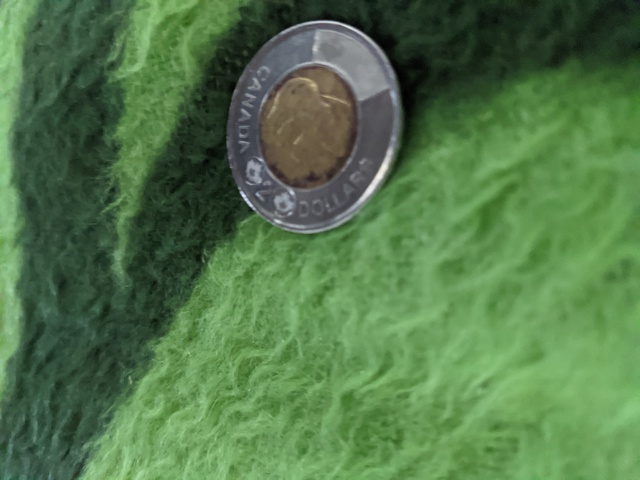twonie: (205, 15, 428, 245)
